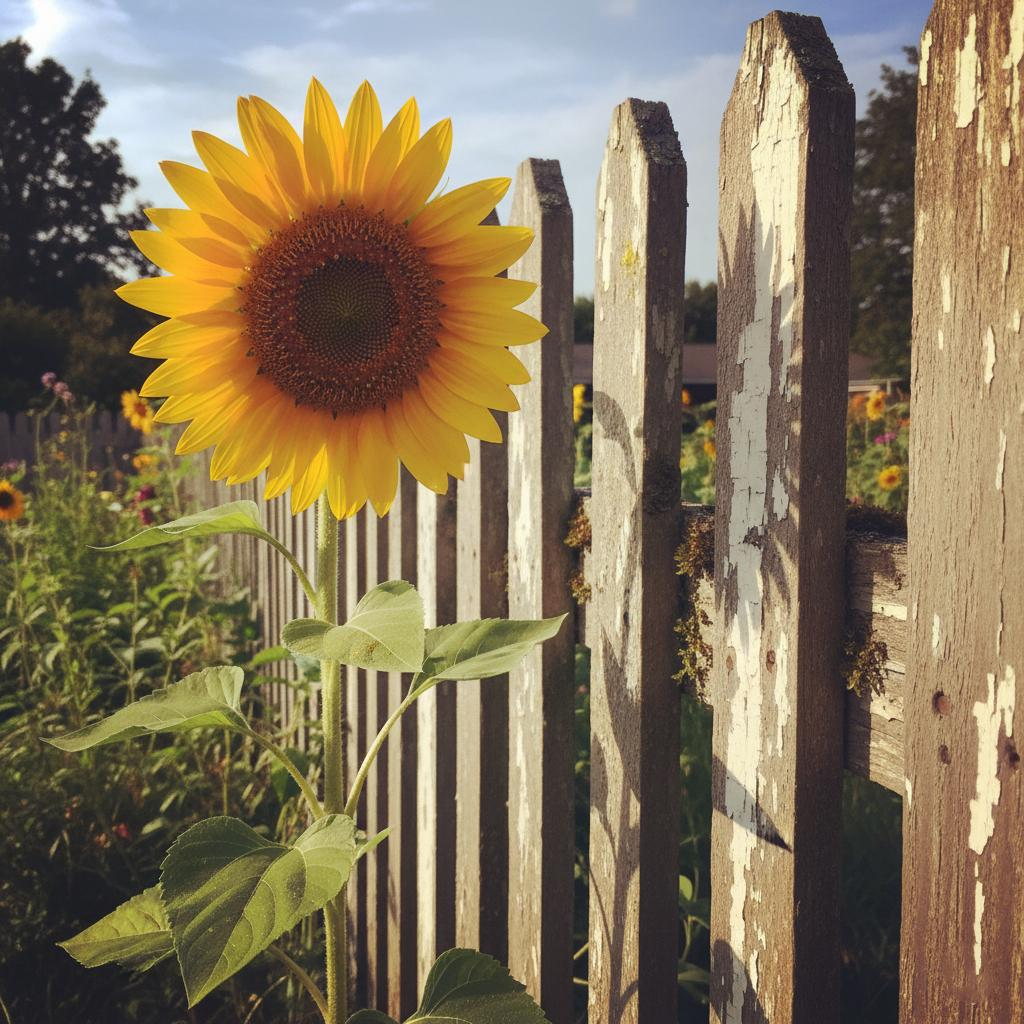sunflower: (114, 74, 549, 521)
